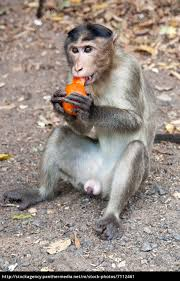monkey: (7, 16, 180, 260)
